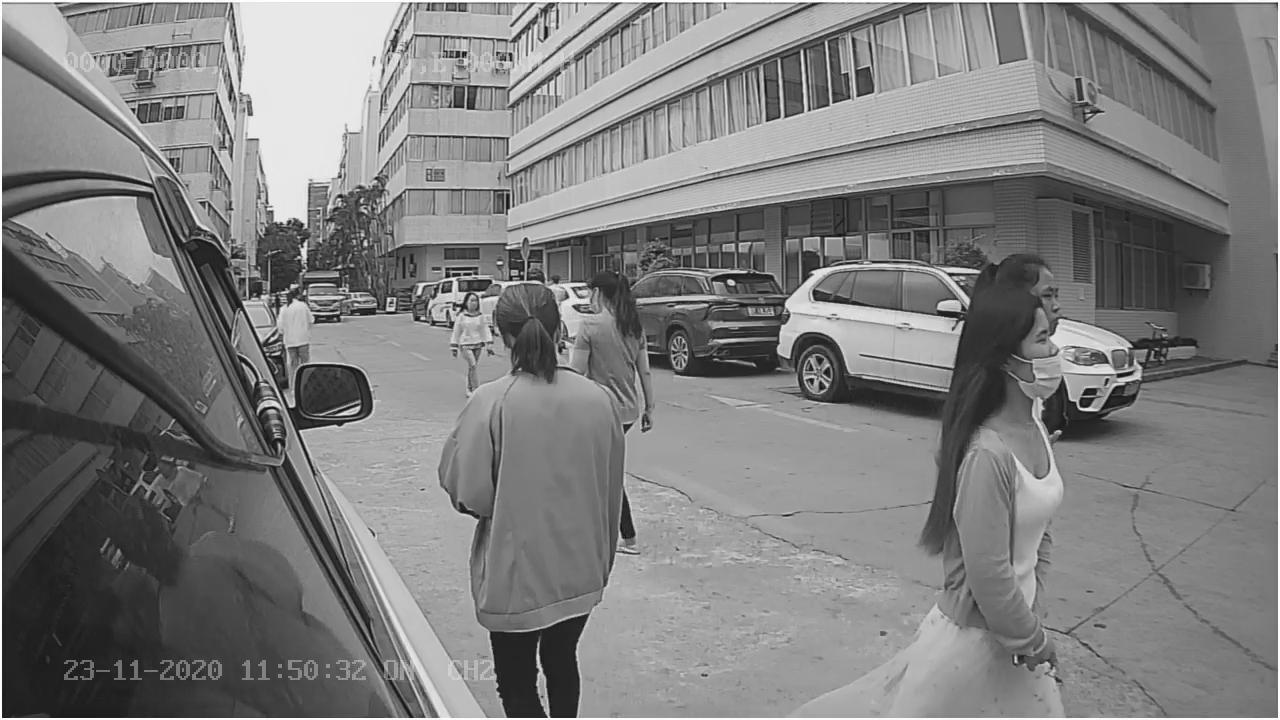person: (919, 286, 1088, 668)
